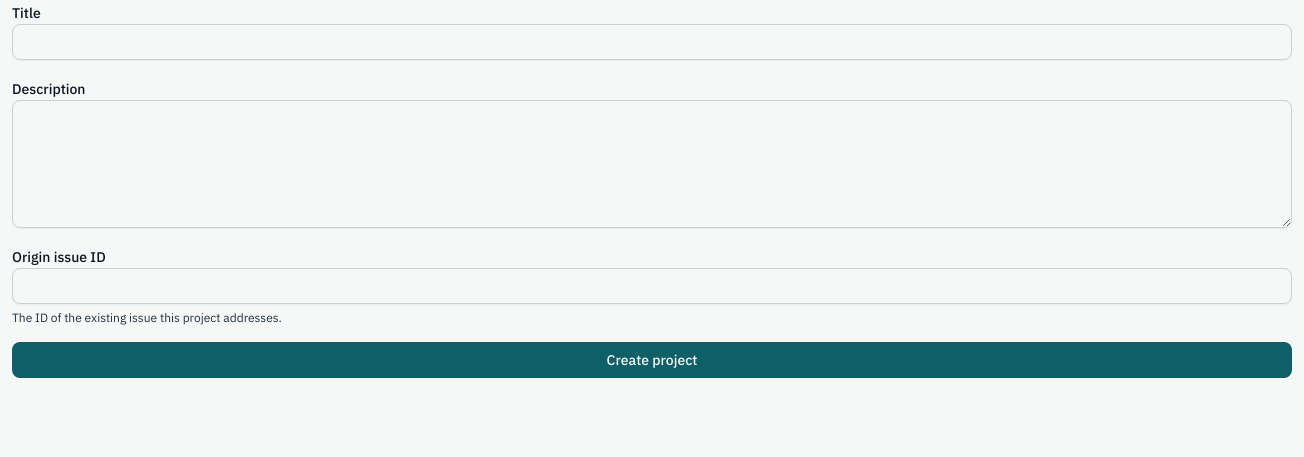
Test: ProjectCreateForm › backend validation failure: shows the message and preserves input
Type "Pipe repair" into the field labelled "Title" at {"x": 652, "y": 42}, box [12,24,1292,60]
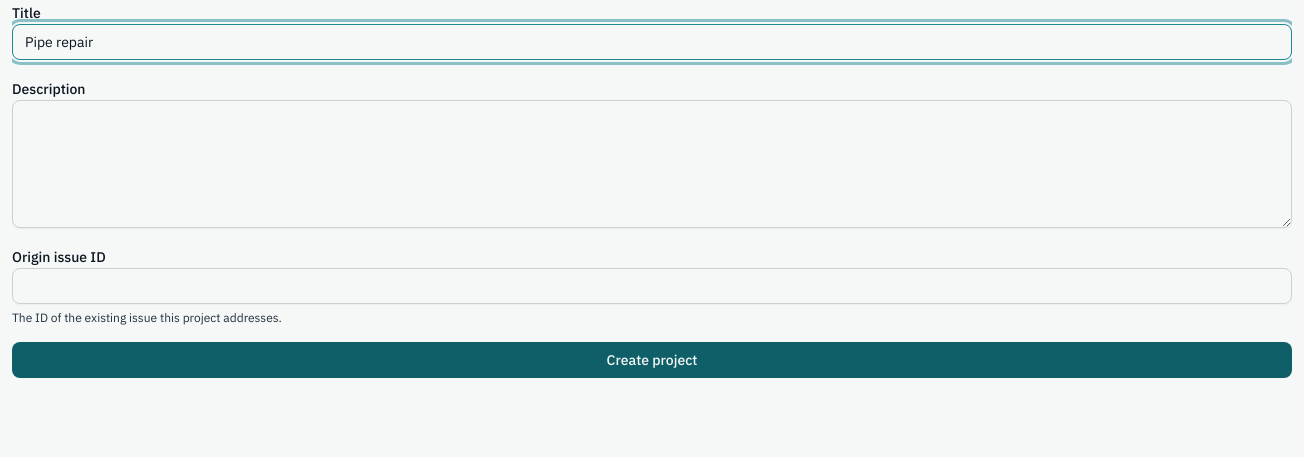
Type "Coordinated fix" into the text box labelled "Description" at {"x": 652, "y": 164}, box [12,100,1292,228]
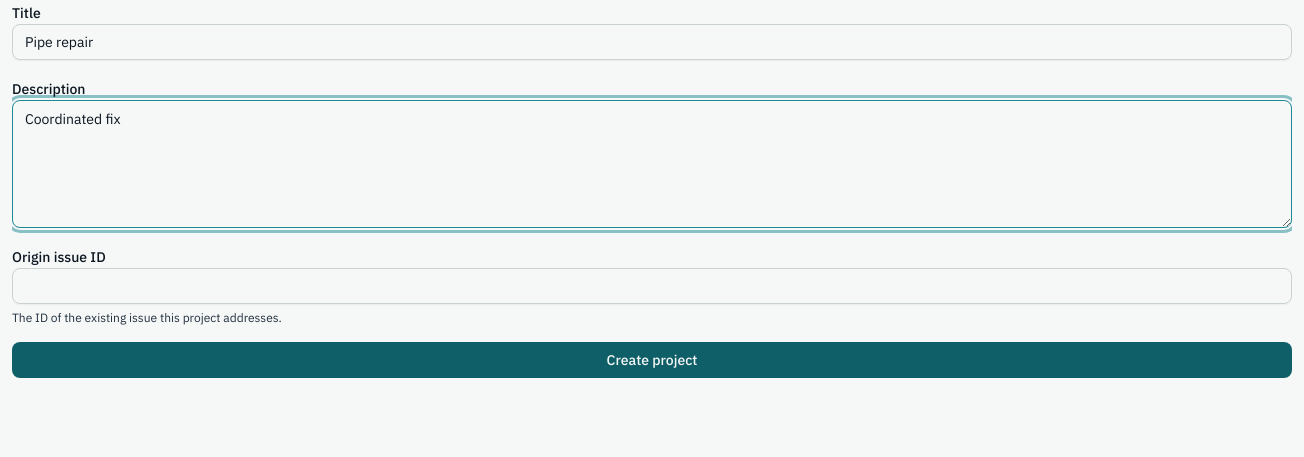
Type "507f1f77bcf86cd799439011" into the field labelled "Origin issue ID" at {"x": 652, "y": 286}, box [12,268,1292,304]
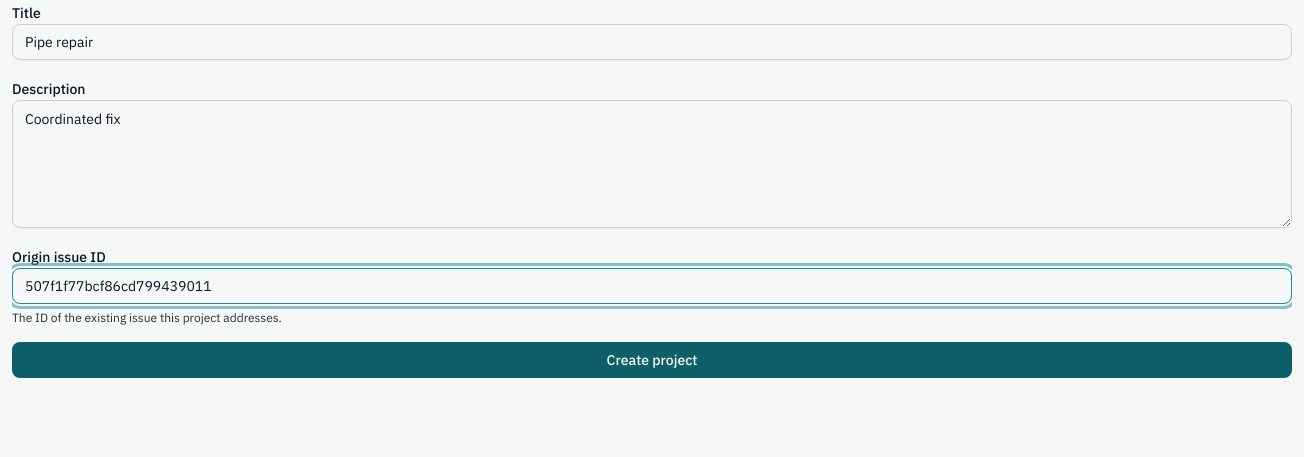
Click the button "Create project" at {"x": 652, "y": 360}, box [12,342,1292,378]
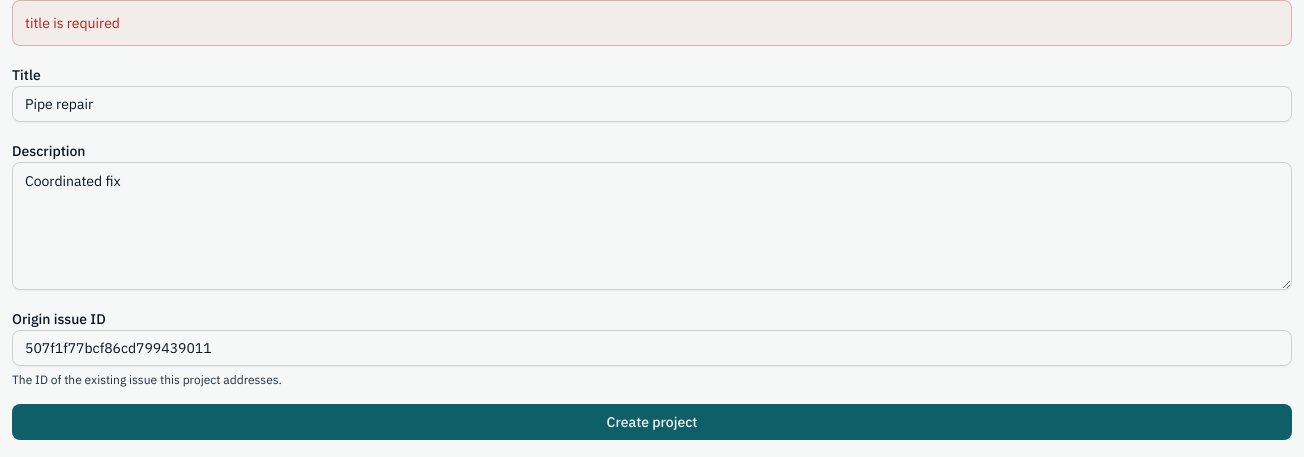
Expected: the message reads "title is required", [25,14,120,32]
